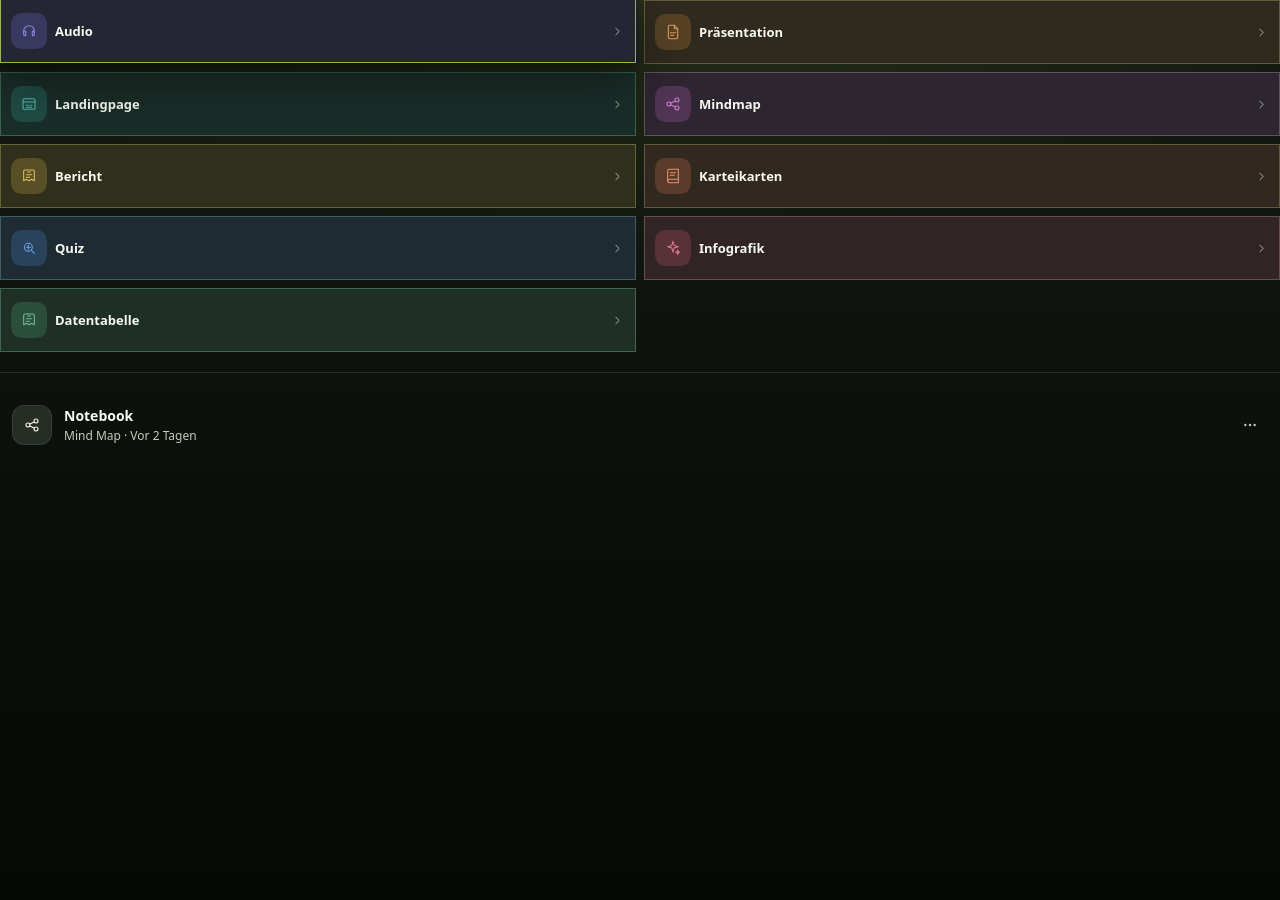
StudioPanel › rendert initiale Mind-Map-Daten
Note: Klick auf das Element im Feed, um das Detail-Modal zu öffnen
Click the text "Notebook" at (99, 416), box [64,406,133,425]
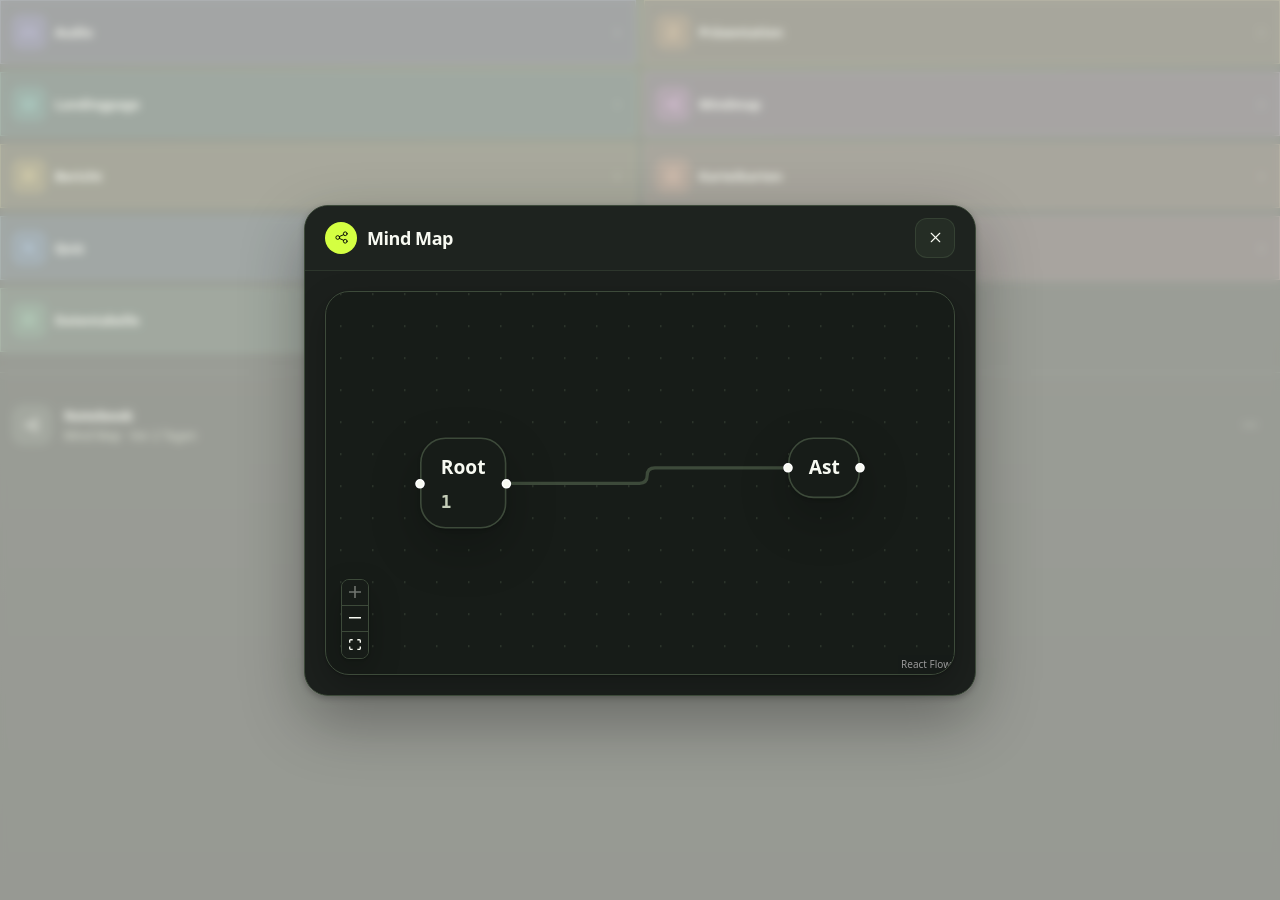
Now the text "Root" is shown, box [441,451,486,483]
Now the text "Ast" is shown, box [809,451,840,483]
